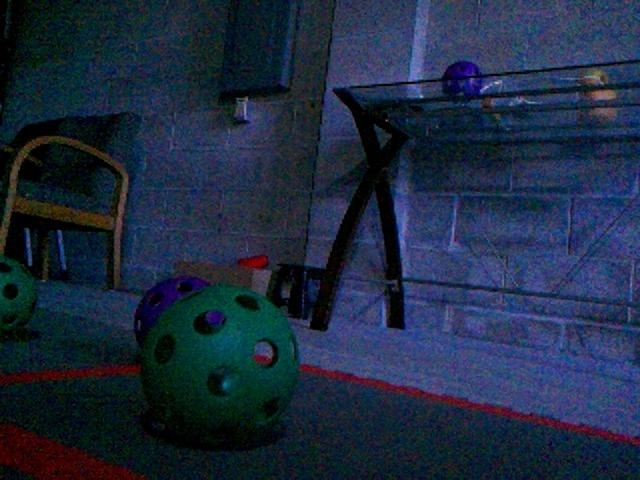Green: (137, 282, 302, 446), (1, 255, 39, 332)
Purple: (132, 276, 209, 351), (441, 60, 483, 98)
